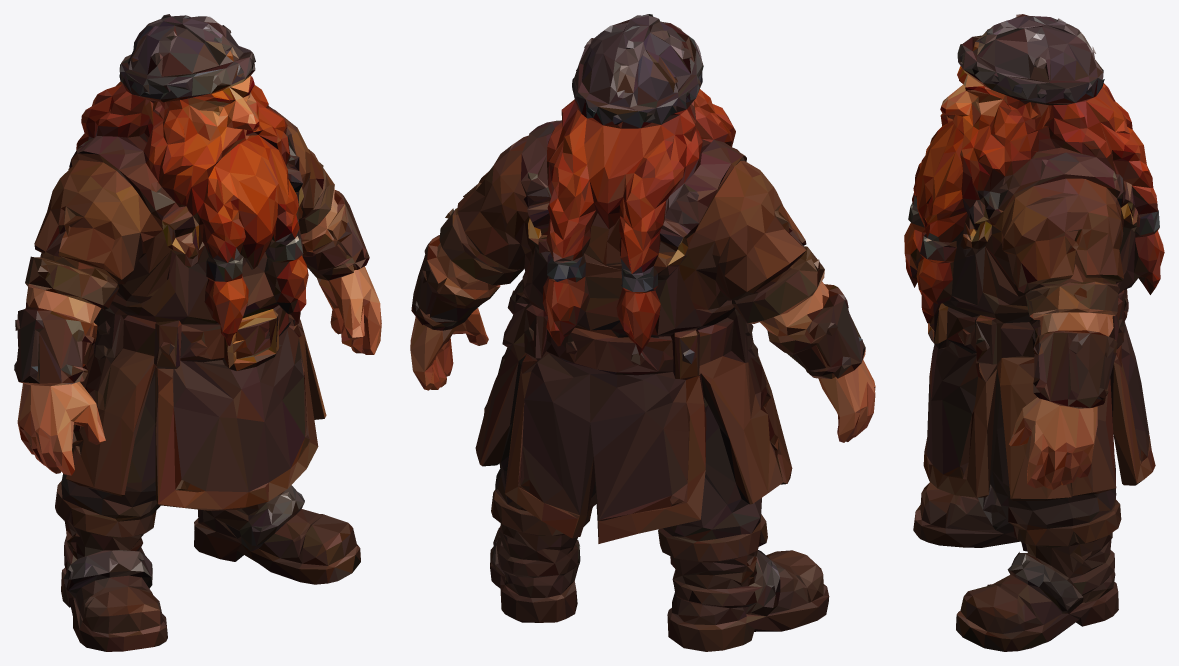
Rendered from brom.glb.
The picture shows the model from 3 angles, left to right: view 1: azimuth 30°, elevation 25°; view 2: azimuth 150°, elevation 25°; view 3: azimuth 270°, elevation 25°; orthographic projection. The views are drawn at different scales.
Parts seen in each view (by area): view 1: tripo_node_787b6f9f-e914-446d-bfe2-aabee53a7144; view 2: tripo_node_787b6f9f-e914-446d-bfe2-aabee53a7144; view 3: tripo_node_787b6f9f-e914-446d-bfe2-aabee53a7144.
Part boxes in pixels (box(x1,y1,x2,y2)): tripo_node_787b6f9f-e914-446d-bfe2-aabee53a7144: box(14, 14, 381, 651); tripo_node_787b6f9f-e914-446d-bfe2-aabee53a7144: box(410, 14, 875, 651); tripo_node_787b6f9f-e914-446d-bfe2-aabee53a7144: box(904, 14, 1164, 651).
Bounding box in the file's own units: 1.05 × 1.45 × 0.6085.
